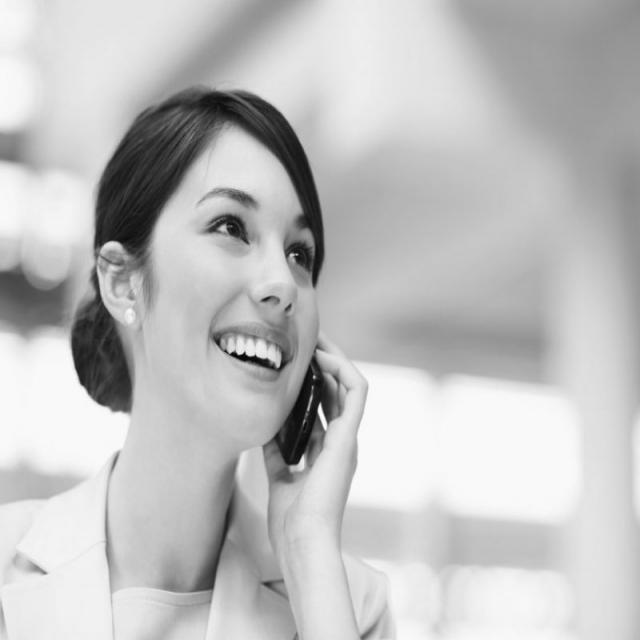phone: (256, 193, 389, 538)
